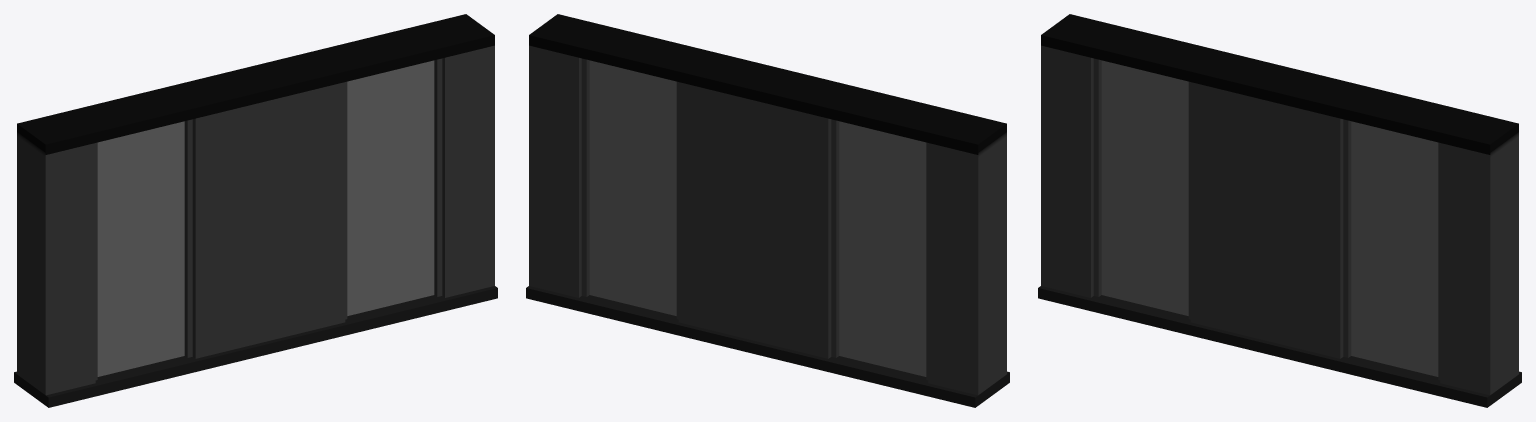
Rendered from Wall-Stone-Model-02.fbx.
The picture shows the model from 3 angles, left to right: view 1: azimuth 30°, elevation 25°; view 2: azimuth 150°, elevation 25°; view 3: azimuth 330°, elevation 25°; orthographic projection.
Parts seen in each view (by area): view 1: Wall-Stone-Model-02; view 2: Wall-Stone-Model-02; view 3: Wall-Stone-Model-02.
Boxes of the visible parts, <box> form: Wall-Stone-Model-02: <box>14,14,497,407</box>; Wall-Stone-Model-02: <box>526,14,1009,407</box>; Wall-Stone-Model-02: <box>1038,14,1521,407</box>.
Size of the model in its own units: 90 by 50 by 12.
Materials: 1 (1 with a texture image).
